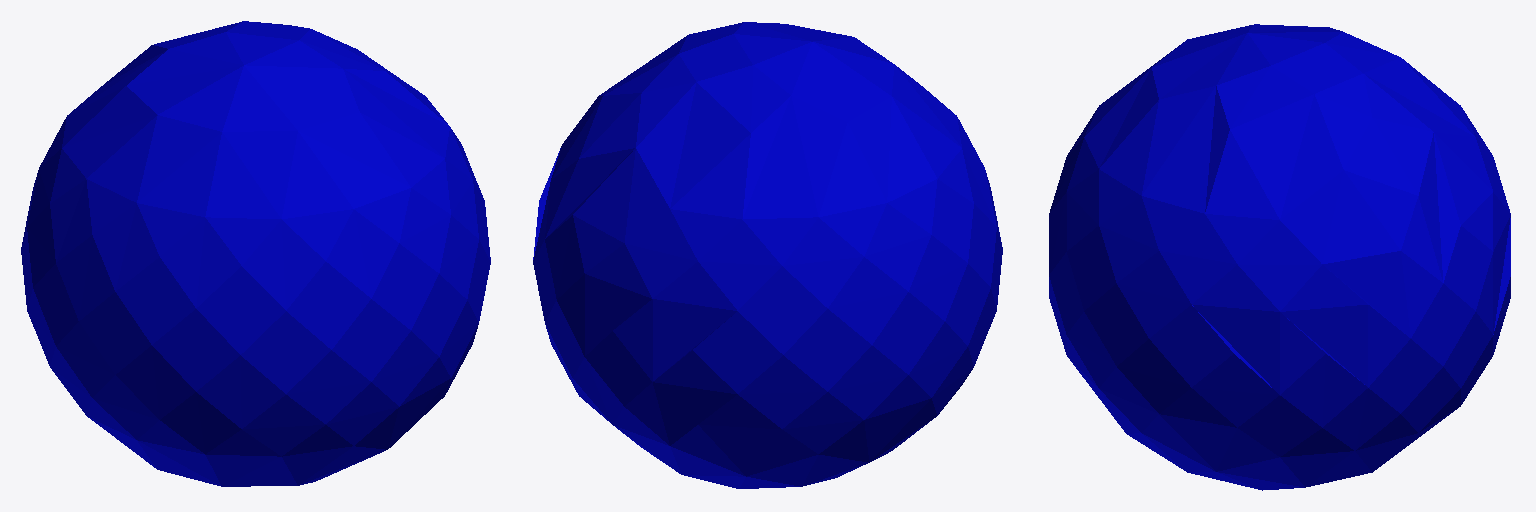
Rendered from water3.obj.
3 views of the same model, side by side, from view 1: azimuth 30°, elevation 25°; view 2: azimuth 150°, elevation 25°; view 3: azimuth 270°, elevation 25° (orthographic).
Parts seen in each view (by area): view 1: pTorus2; view 2: pTorus2; view 3: pTorus2.
Part boxes in pixels (x1,y1,x2,y2): pTorus2: (21, 21, 490, 486); pTorus2: (533, 22, 1002, 488); pTorus2: (1049, 24, 1510, 490).
Size of the model in its own units: 0.2775 by 0.2775 by 0.2775.